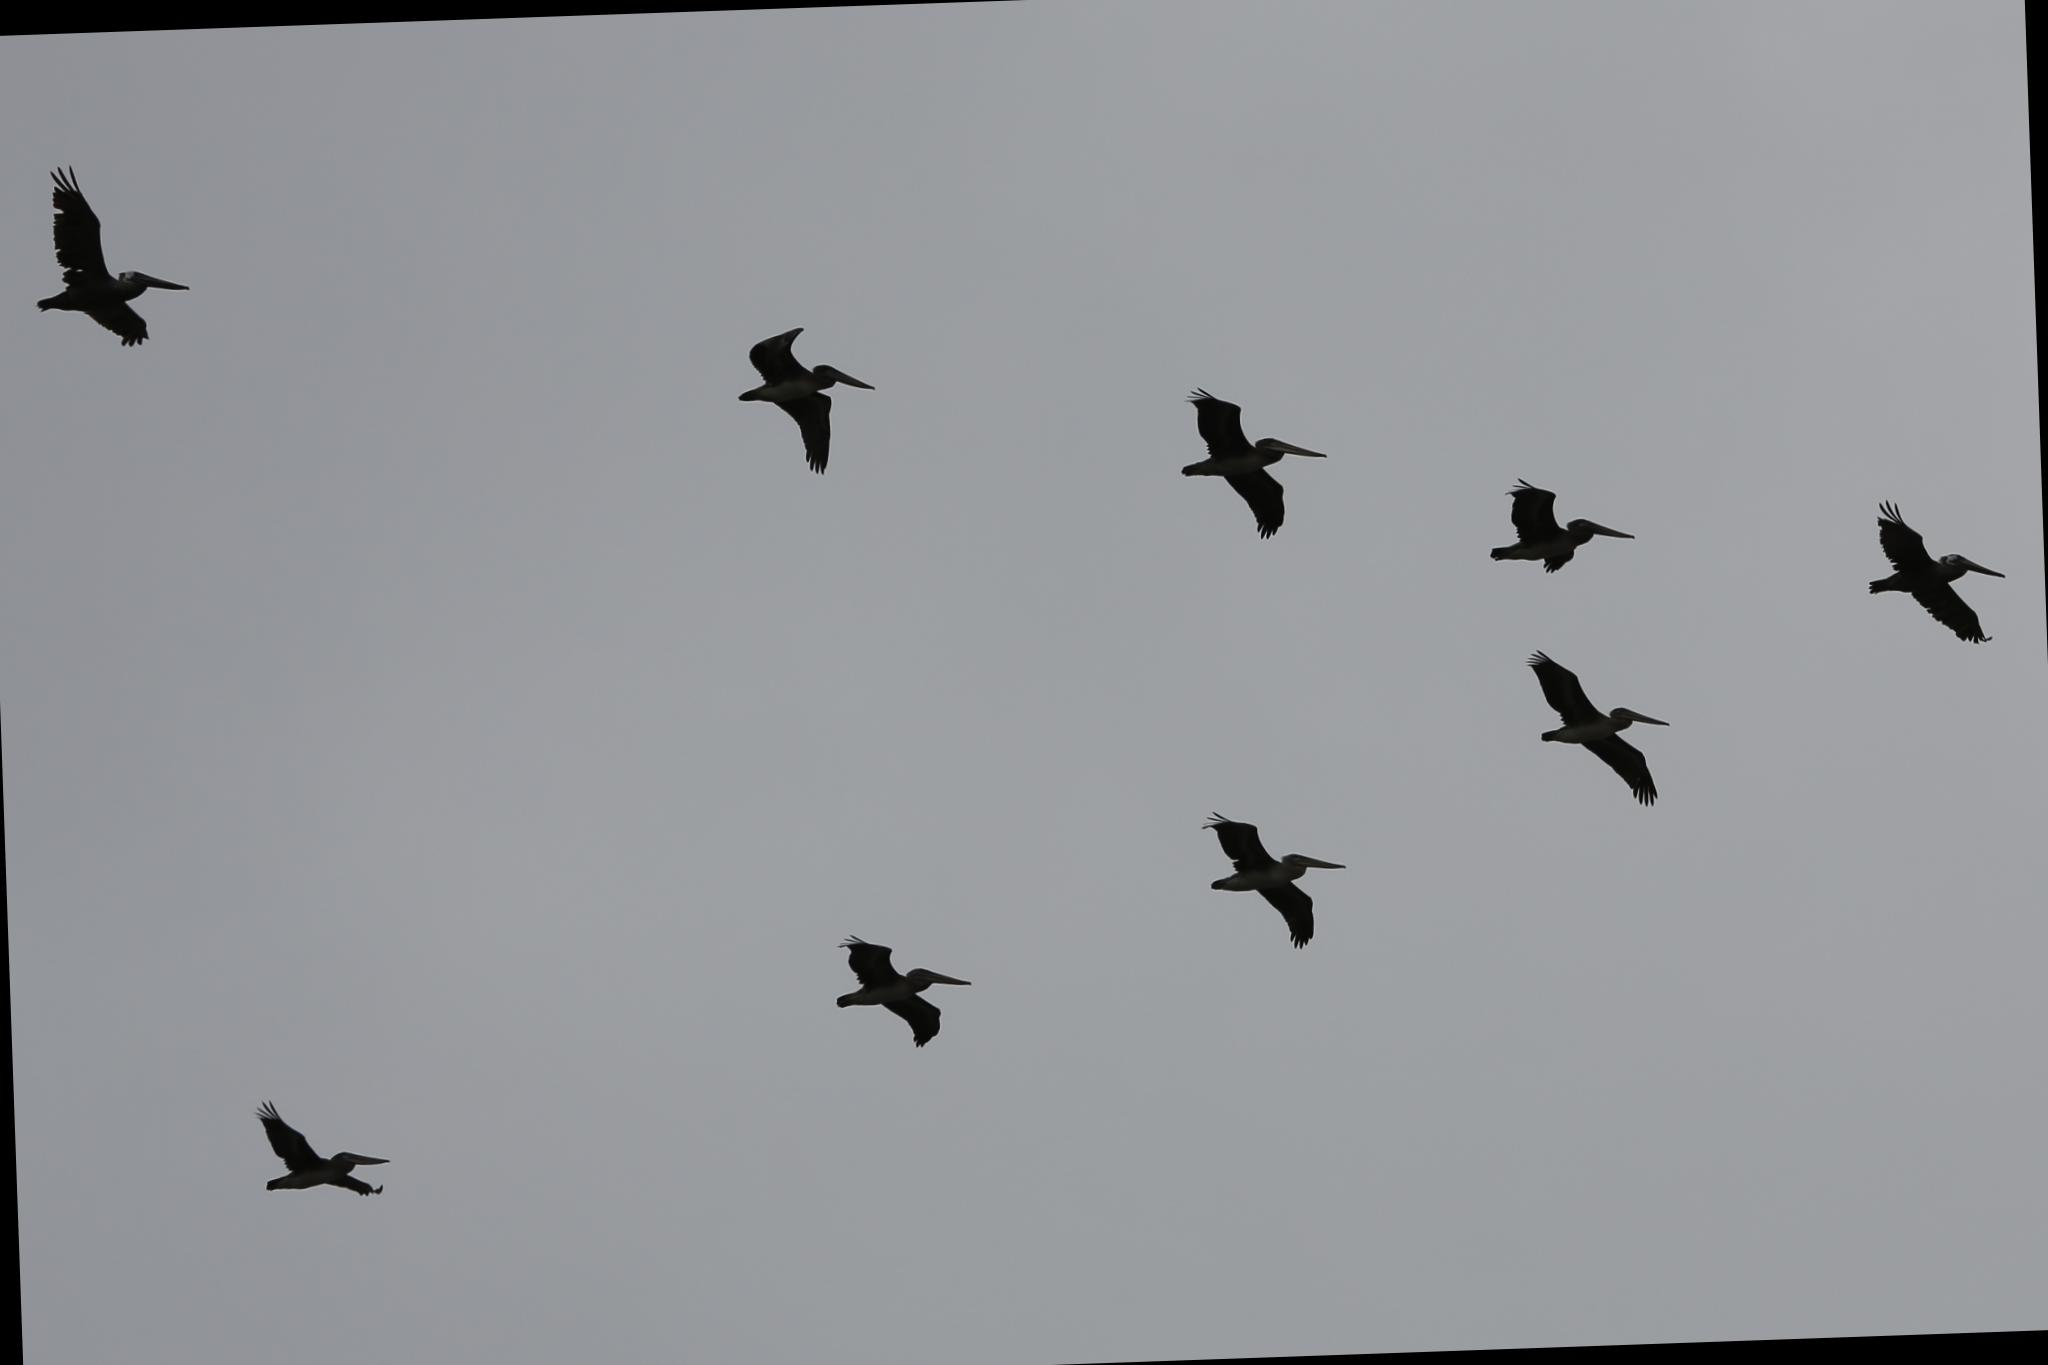bird: (12, 145, 203, 379), (1430, 437, 1643, 602), (713, 306, 888, 506), (1163, 364, 1337, 556), (1839, 474, 2010, 664), (1186, 788, 1364, 958), (1510, 637, 1675, 817), (233, 1072, 408, 1216), (816, 922, 988, 1062)
